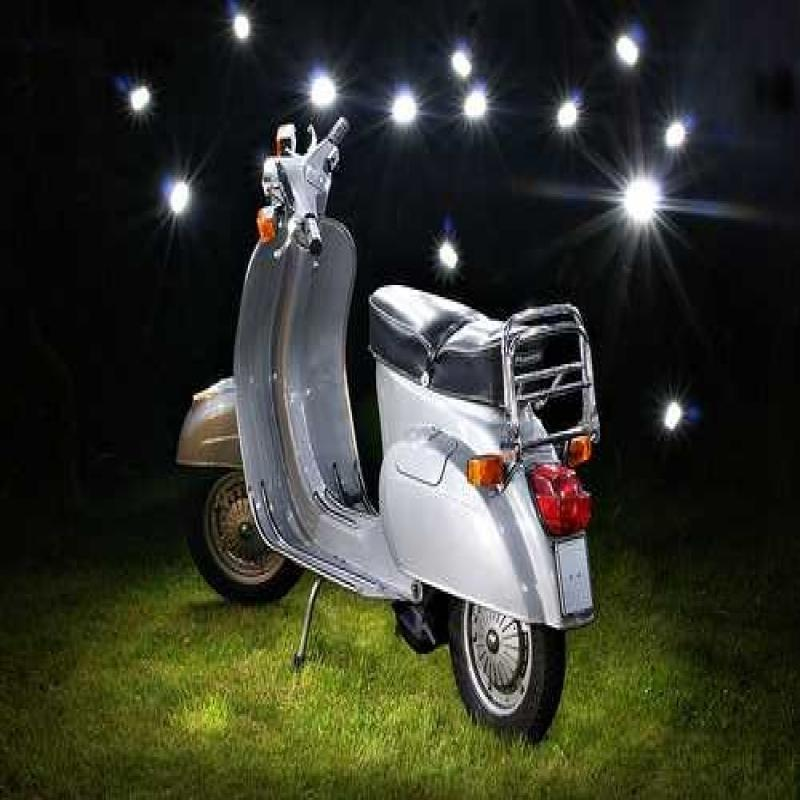bike: (178, 128, 588, 746)
